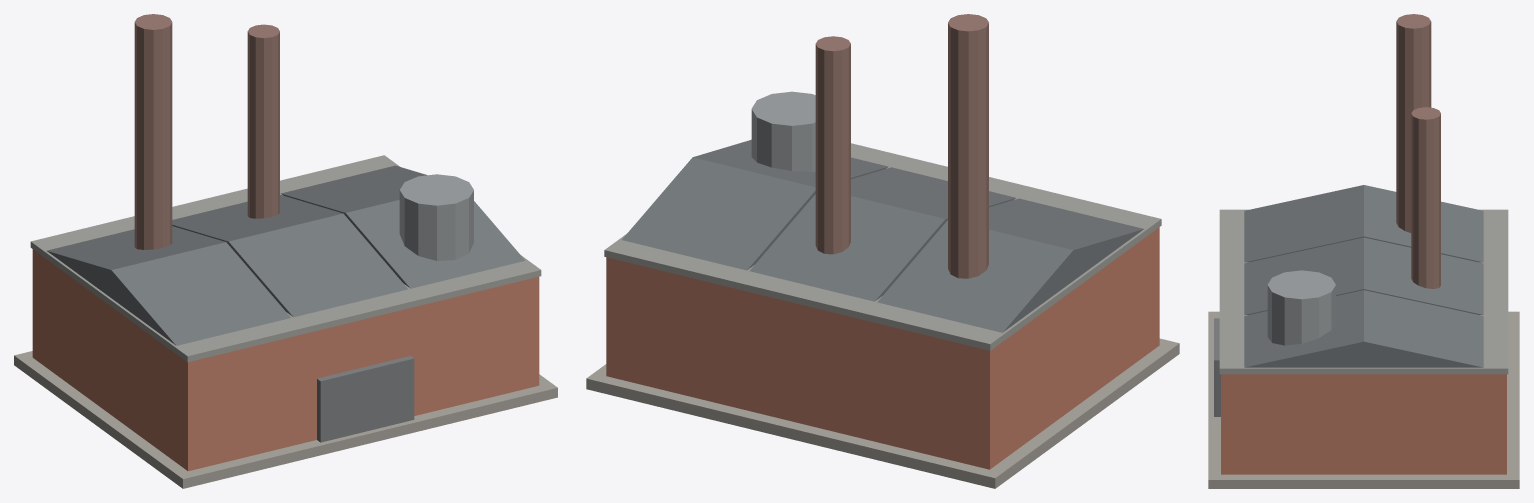
The model's file is ind_fabrica.glb.
3 renders of one model, left to right at view 1: azimuth 30°, elevation 25°; view 2: azimuth 150°, elevation 25°; view 3: azimuth 270°, elevation 25°, orthographic. The views are drawn at different scales.
Visible parts, largest first — view 1: ind_fabrica; view 2: ind_fabrica; view 3: ind_fabrica.
Boxes of the visible parts, x1,y1,x2,y2 form: ind_fabrica: [14, 14, 557, 488]; ind_fabrica: [586, 14, 1179, 488]; ind_fabrica: [1208, 14, 1519, 488].
Size of the model in its own units: 0.64 by 0.596 by 0.5.
